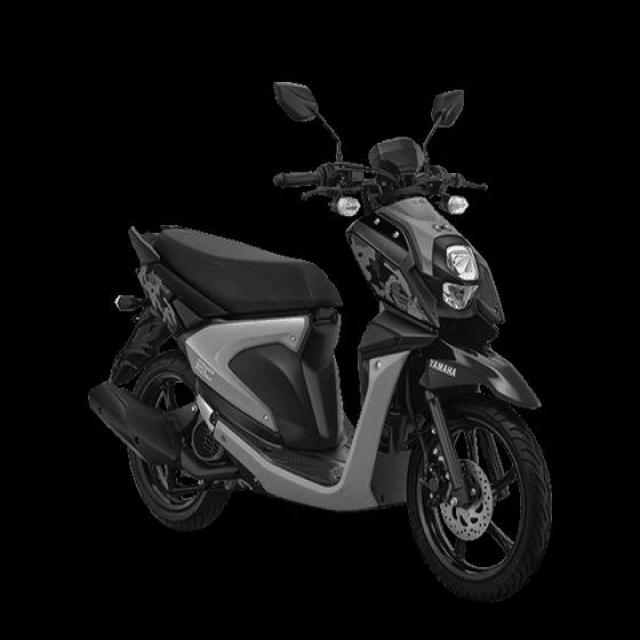Motorcycle: (88, 138, 552, 603)
